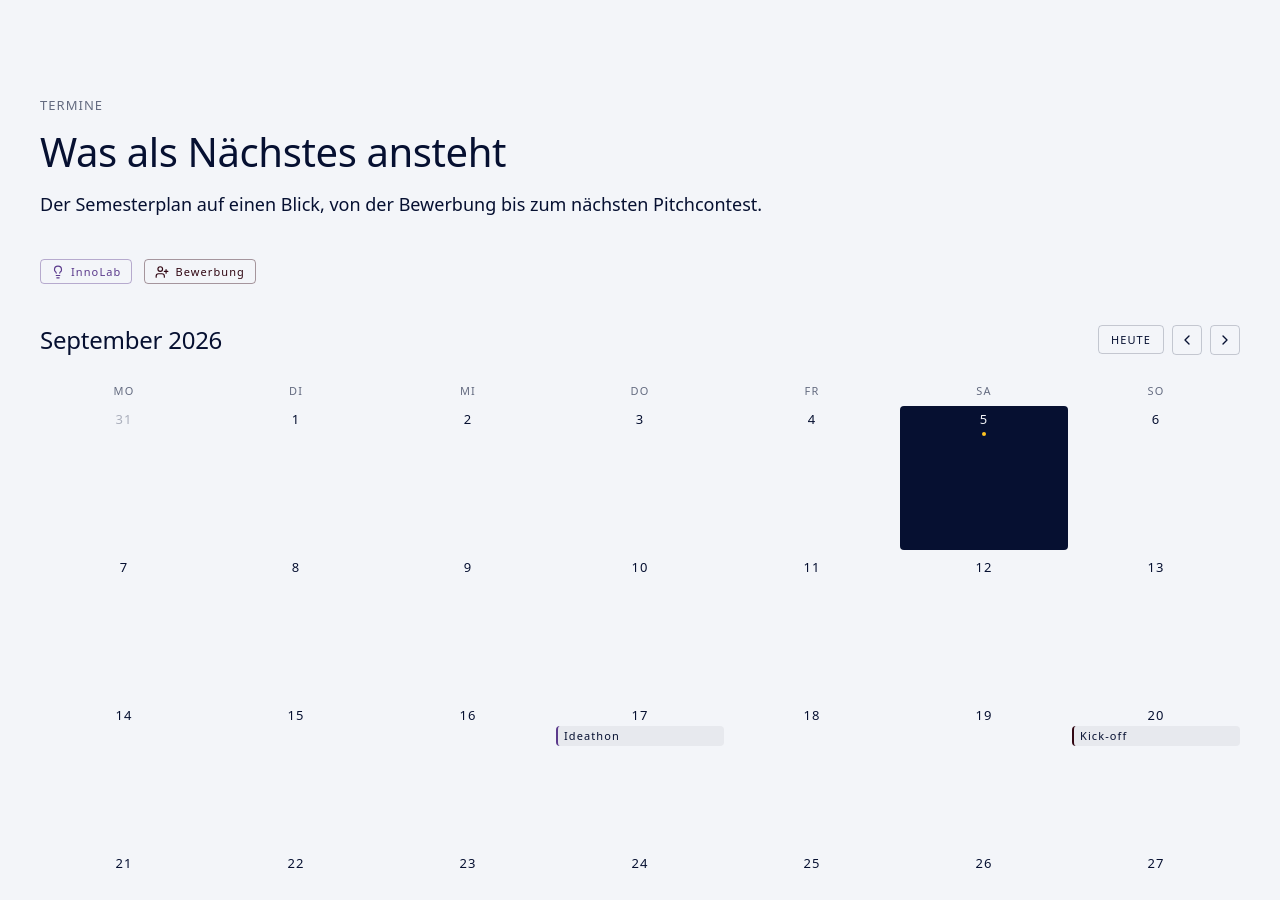
it: EventCalendar › narrows the visible events to the selected category and back once deselected
This screenshot has width=1280, height=900.
Click the button "InnoLab".
click(86, 272)  # box [40,259,132,285]
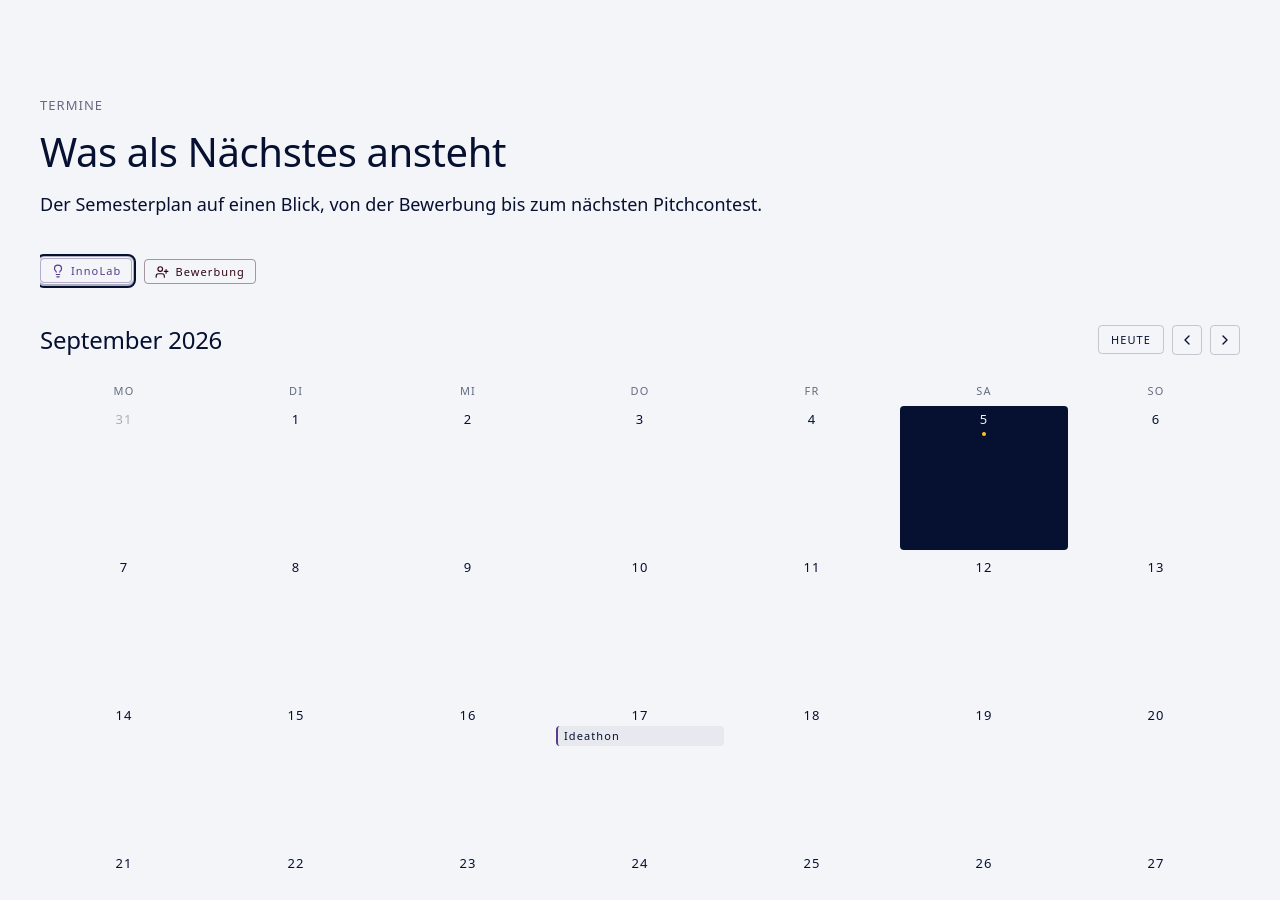
Expected: the text "Ideathon" is shown, [564,728,620,744]
Now the text "Kick-off" is gone
Click the button "InnoLab".
click(86, 271)  # box [40,258,132,284]
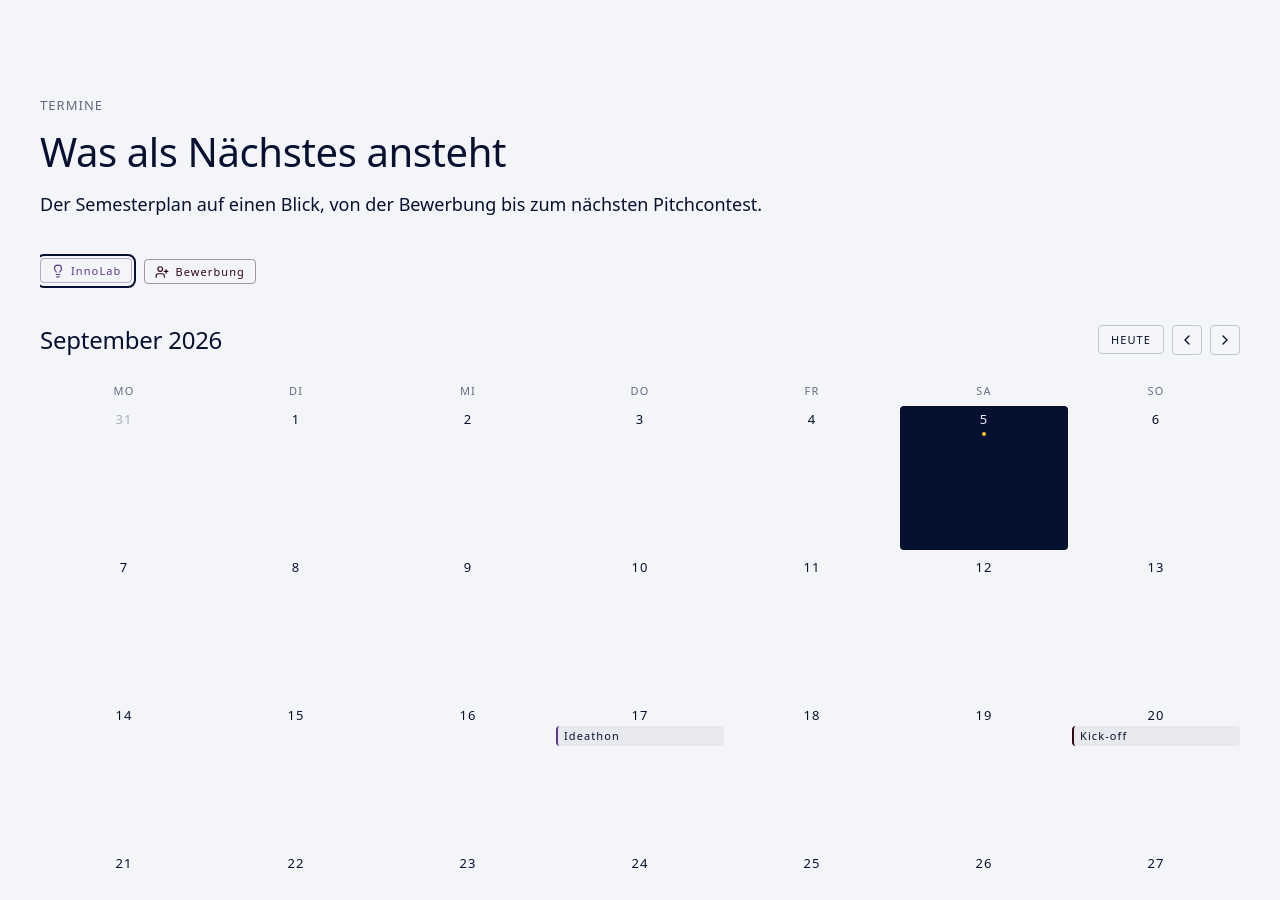
Now the text "Kick-off" is shown, box [1080,728,1127,744]
